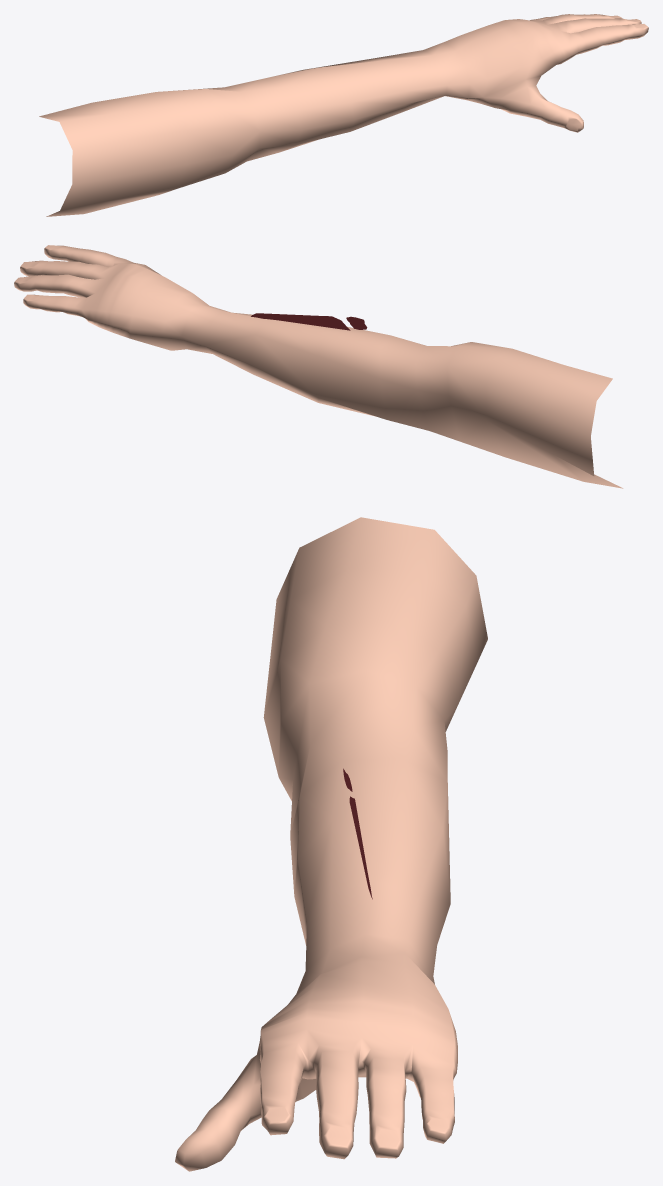
File: blood_hand.glb
3 views of the same model, one above another, from view 1: azimuth 30°, elevation 25°; view 2: azimuth 150°, elevation 25°; view 3: azimuth 270°, elevation 25° (orthographic). The views are drawn at different scales.
Parts seen in each view (by area): view 1: pasted__Arm pasted__Body_LowRes group; view 2: pasted__Arm pasted__Body_LowRes group, Blood_1; view 3: pasted__Arm pasted__Body_LowRes group.
Part boxes in pixels (bbox=[...]): pasted__Arm pasted__Body_LowRes group: bbox=[39, 14, 648, 216]; pasted__Arm pasted__Body_LowRes group: bbox=[14, 245, 623, 488]; Blood_1: bbox=[251, 313, 367, 330]; pasted__Arm pasted__Body_LowRes group: bbox=[175, 517, 487, 1171].
Bounding box in the file's own units: 19.41 × 3.01 × 4.43.
Materials: 2 (1 with a texture image).
